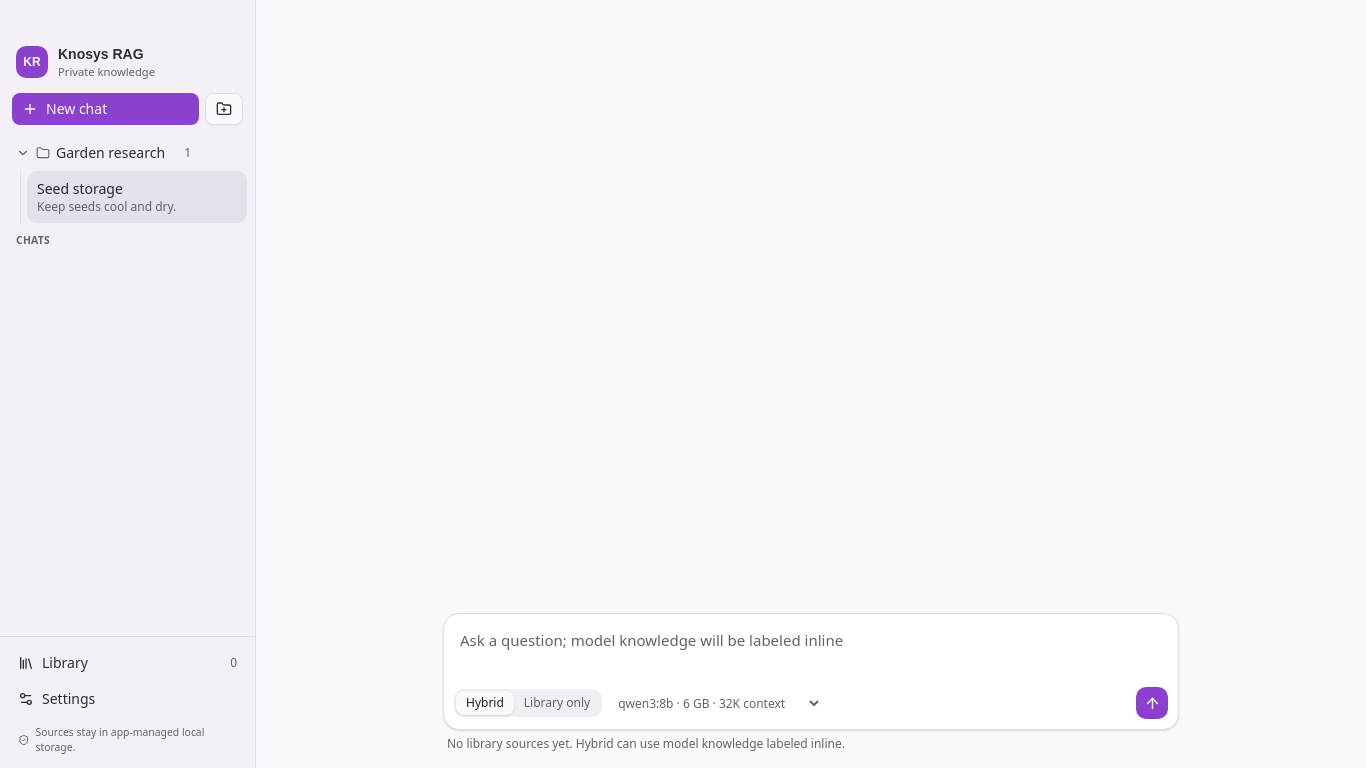
Test: folders › groups threads under folders with a collapsible header
This screenshot has width=1366, height=768.
Check: the text "Seed storage" is shown, box [37,179,123,198]
Check: the text "Chats" is shown, box [16,233,50,247]
Click the button "Garden research 1" at coordinates (128, 153), box [8,137,247,169]
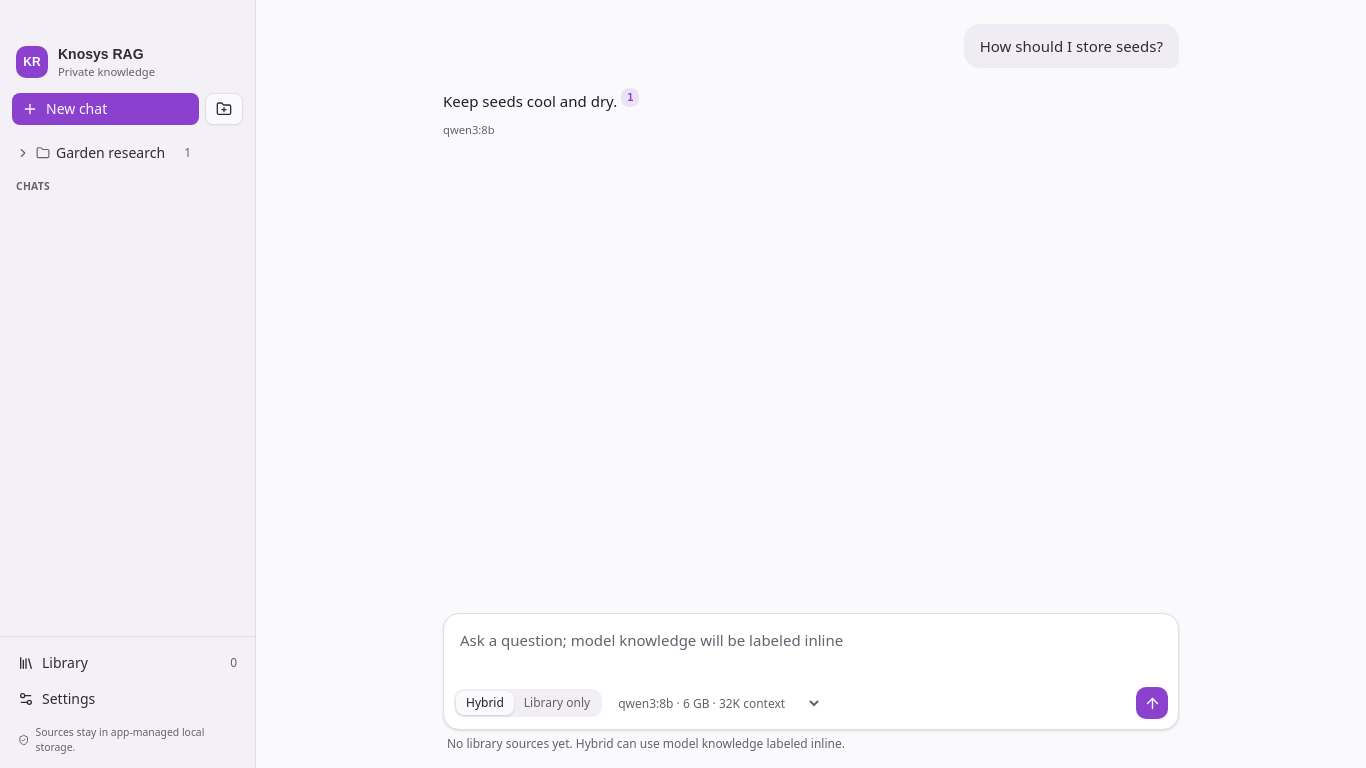
Check: the button "Seed storage" is gone
Click the button "Garden research 1" at coordinates (128, 153), box [8,137,247,169]
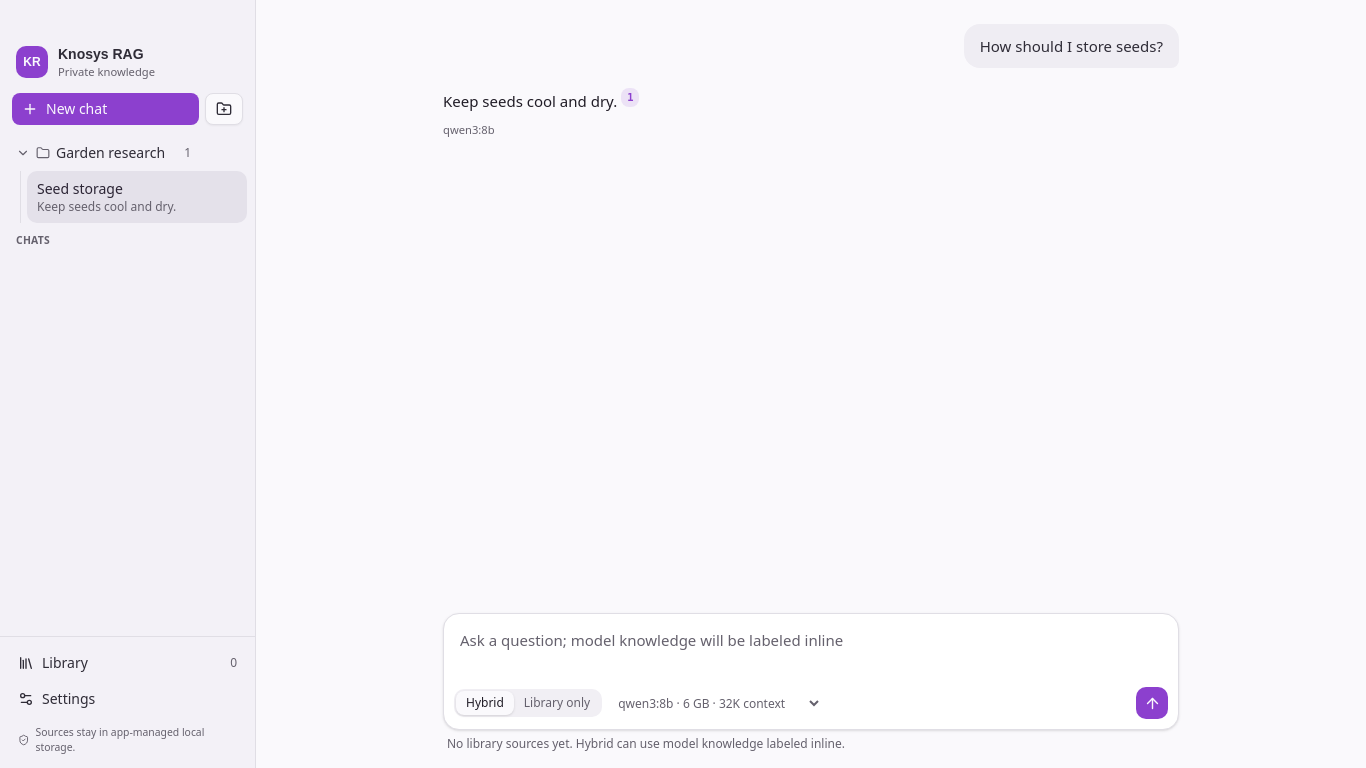
Check: the text "Seed storage" is shown, box [37,179,123,198]
